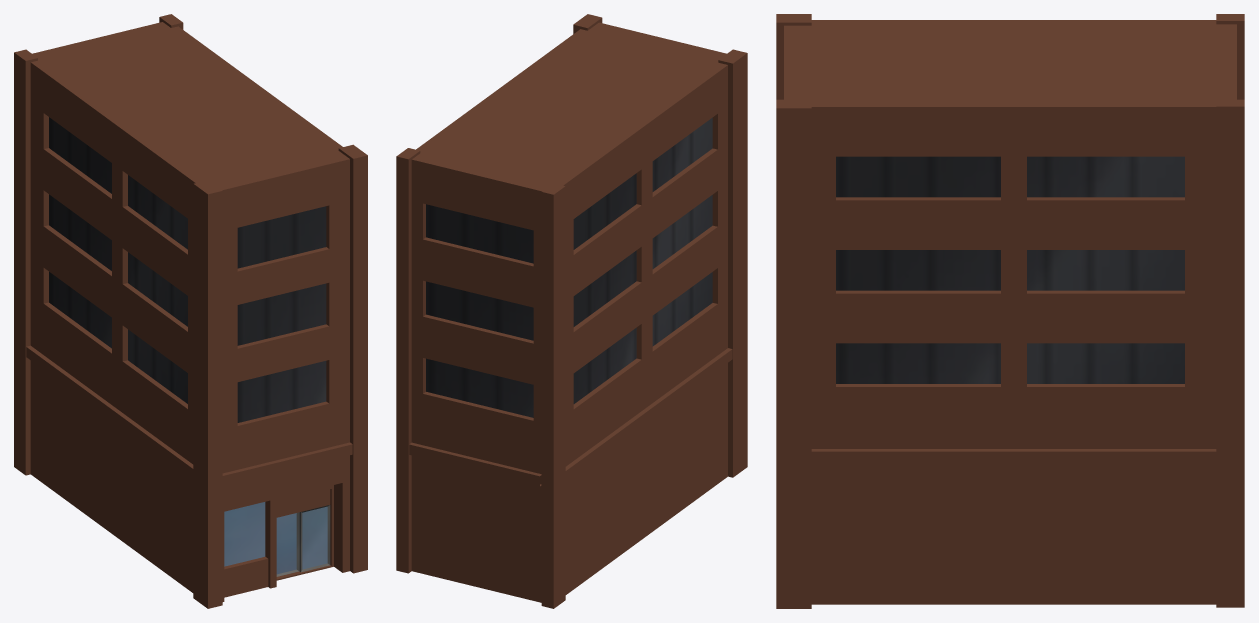
The model's file is Bld_Building_EB.fbx.
3 renders of one model, left to right at view 1: azimuth 30°, elevation 25°; view 2: azimuth 150°, elevation 25°; view 3: azimuth 270°, elevation 25°, orthographic. The views are drawn at different scales.
Visible parts, largest first — view 1: Bld_Building_EB; view 2: Bld_Building_EB; view 3: Bld_Building_EB.
Part boxes in pixels (x1,y1,x2,y2): Bld_Building_EB: (14,14,367,608); Bld_Building_EB: (396,14,747,608); Bld_Building_EB: (776,14,1244,608).
Bounding box in the file's own units: 650 × 1610 × 1365.
